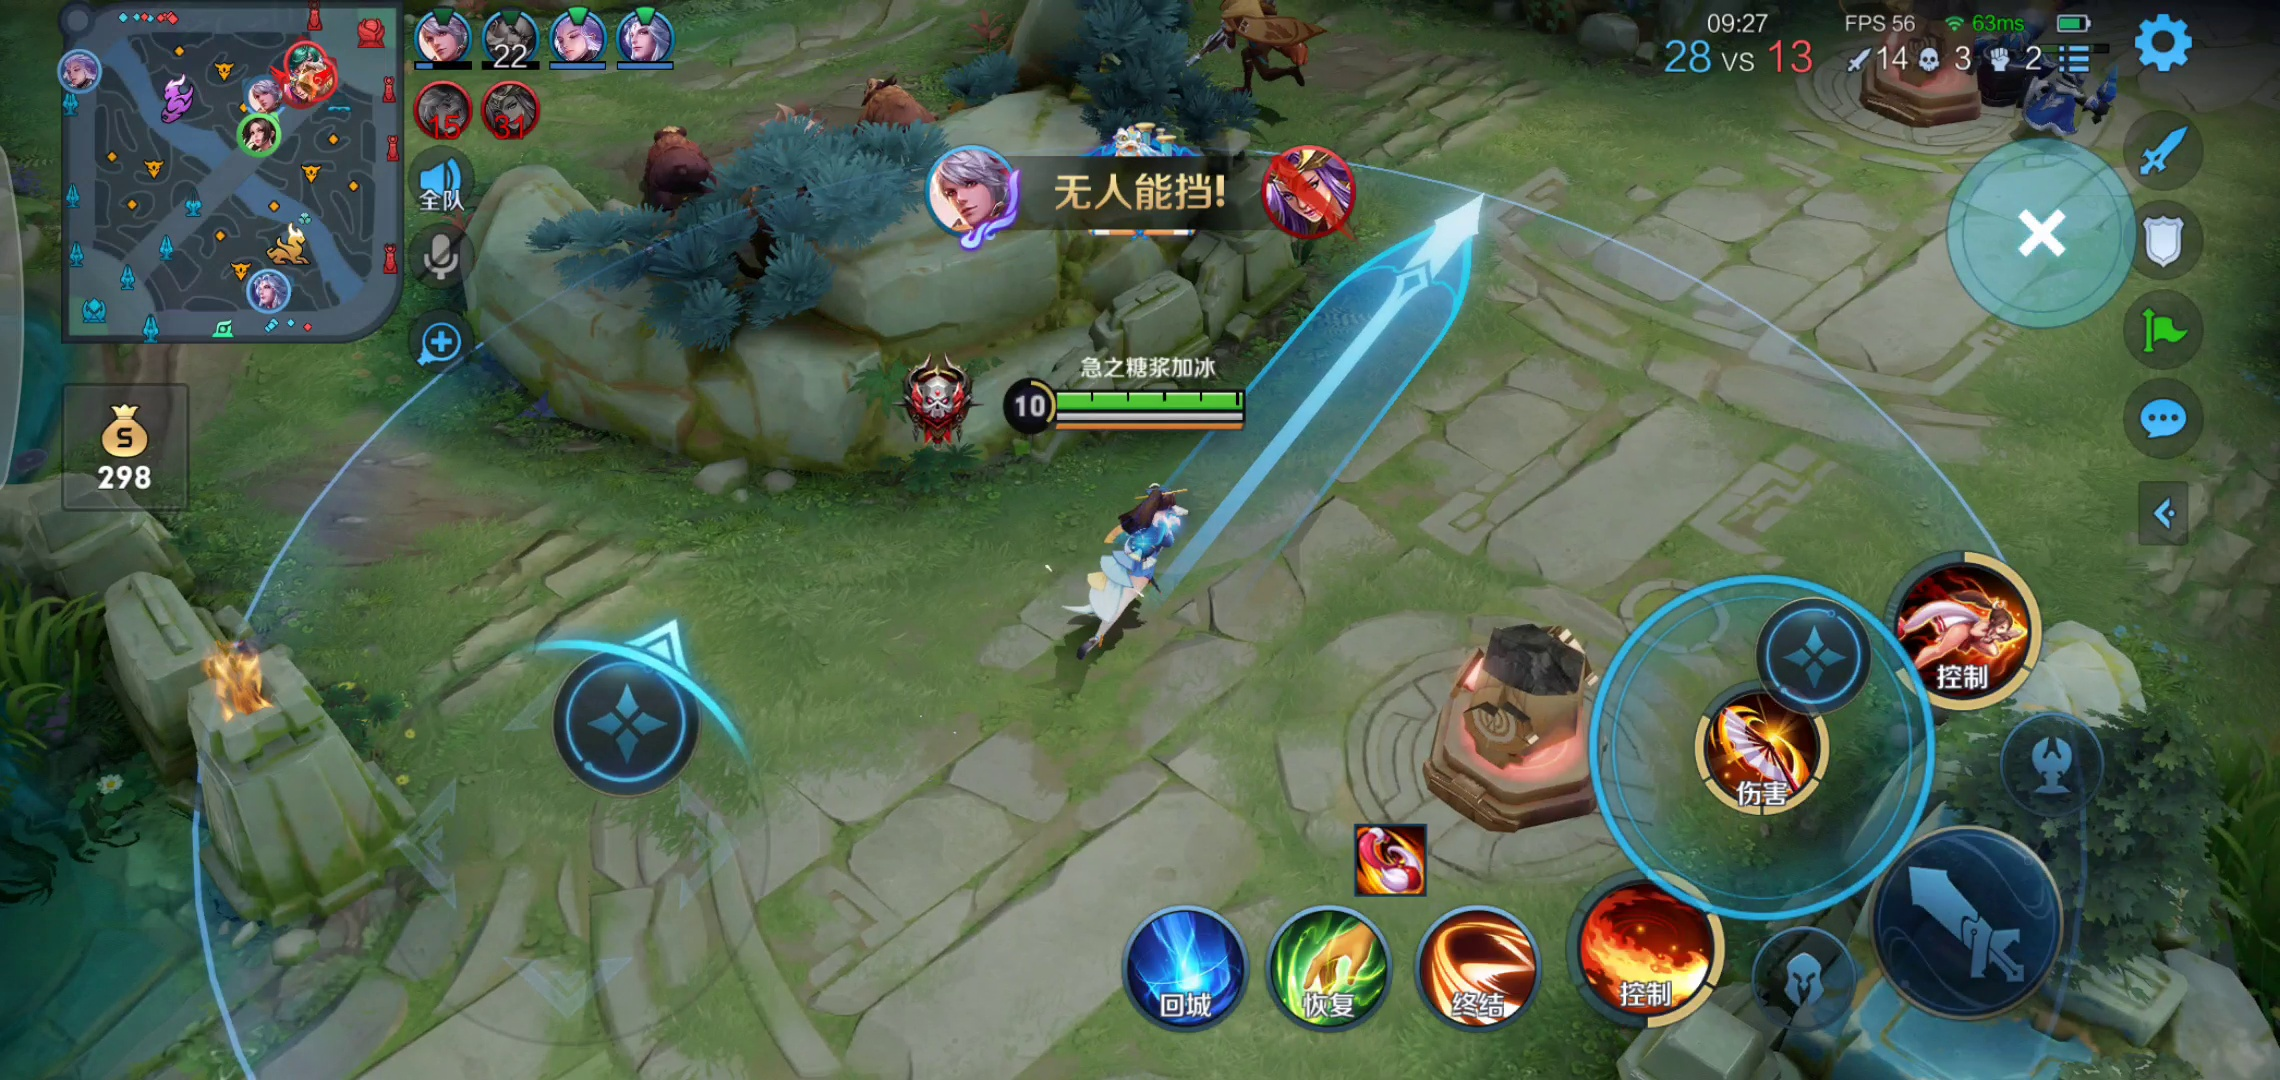grass: (1, 583, 150, 874)
hero: (1054, 464, 1203, 653), (1201, 1, 1323, 102)
soldier: (1962, 3, 2042, 93), (2026, 57, 2107, 132)
tower: (1425, 600, 1615, 842), (1860, 1, 1979, 121)
wild_monster: (598, 60, 954, 222)
